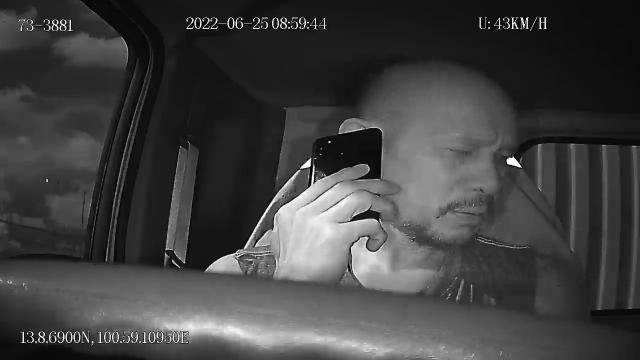Phone: (310, 124, 384, 240)
